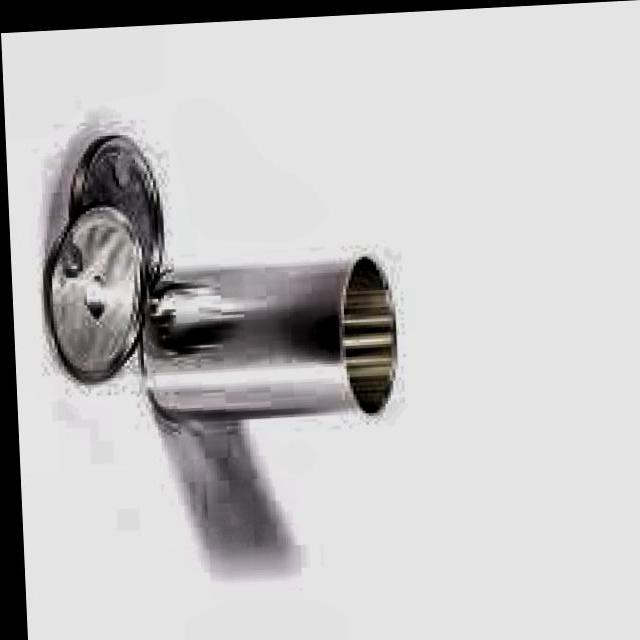Aluminum Can: (127, 240, 404, 430), (25, 192, 154, 382), (51, 118, 174, 280)
